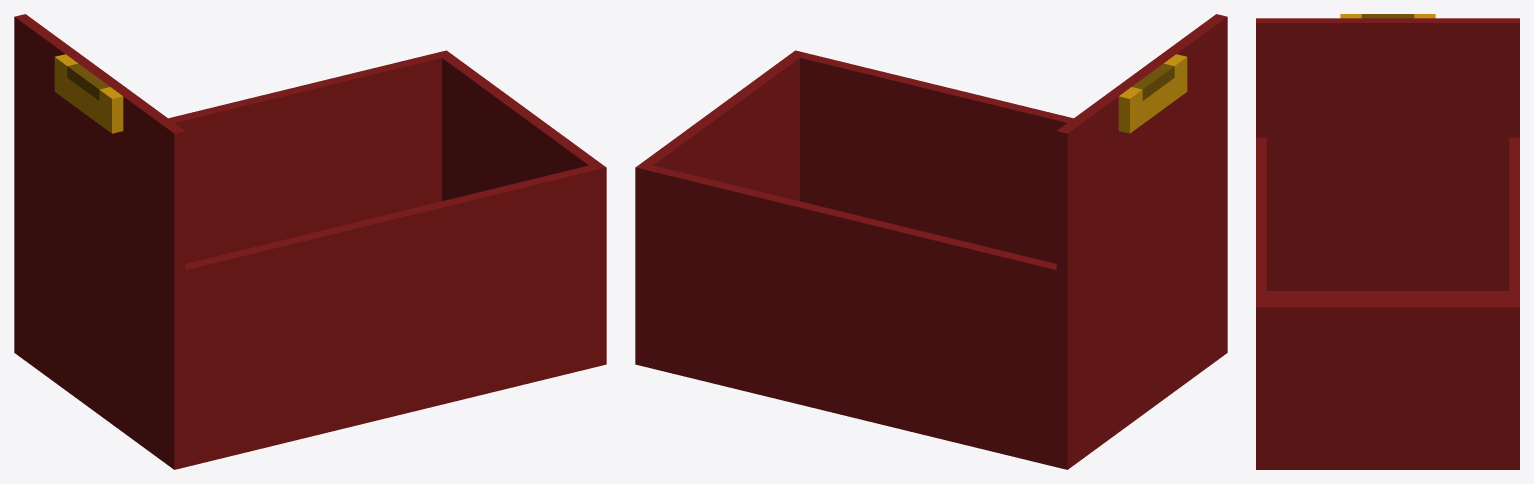
File: CajonGrandeSano.fbx
3 views of the same model, side by side, from view 1: azimuth 30°, elevation 25°; view 2: azimuth 150°, elevation 25°; view 3: azimuth 270°, elevation 25° (orthographic). The views are drawn at different scales.
Parts seen in each view (by area): view 1: Cajon_Grande_Sano; view 2: Cajon_Grande_Sano; view 3: Cajon_Grande_Sano.
Part boxes in pixels (x1,y1,x2,y2): Cajon_Grande_Sano: (14, 14, 606, 469); Cajon_Grande_Sano: (635, 14, 1227, 469); Cajon_Grande_Sano: (1256, 14, 1519, 469).
Bounding box in the file's own units: 400 × 290 × 250.
